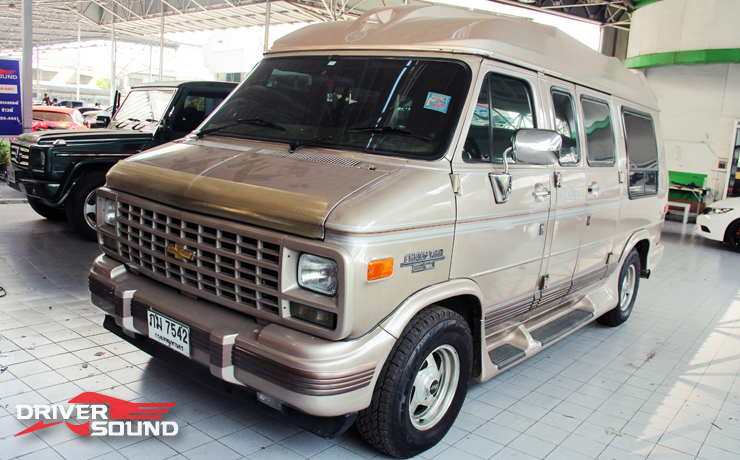van: (87, 5, 669, 457)
